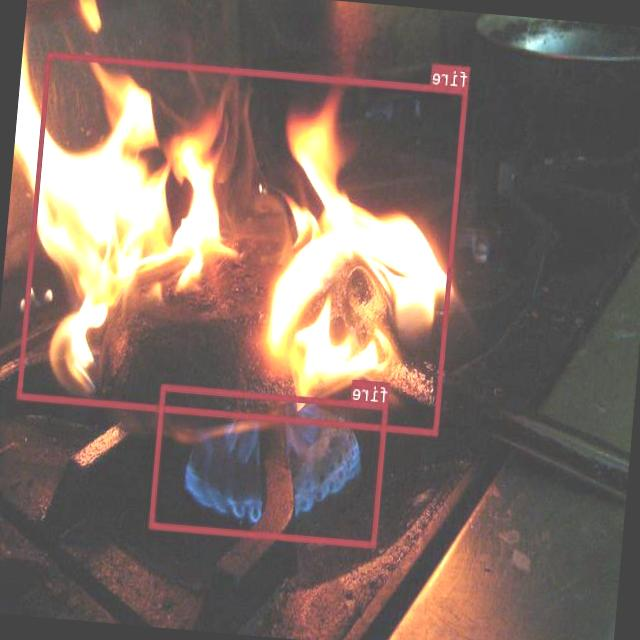fire: (17, 51, 468, 434), (150, 382, 388, 546)
